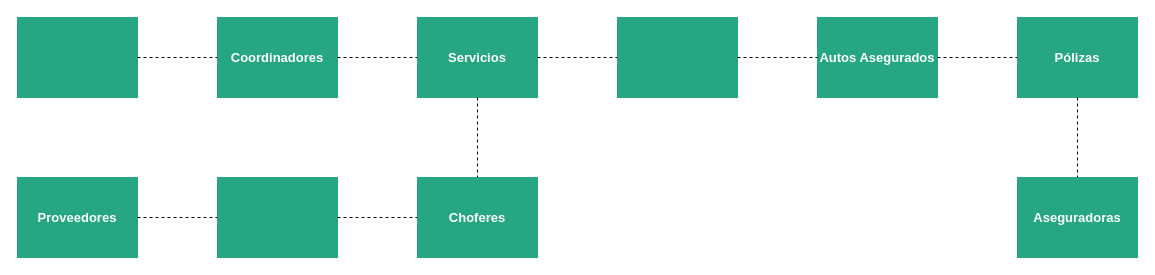
Image size: 1155x275. Some labels were removed from this diagram. Here are the shapes that lost their labels. From the top down, the centre of each, then its label:
At [77,57]: "Supervisores".
At [677,57]: "Clientes".
At [277,217]: "Gruas".
